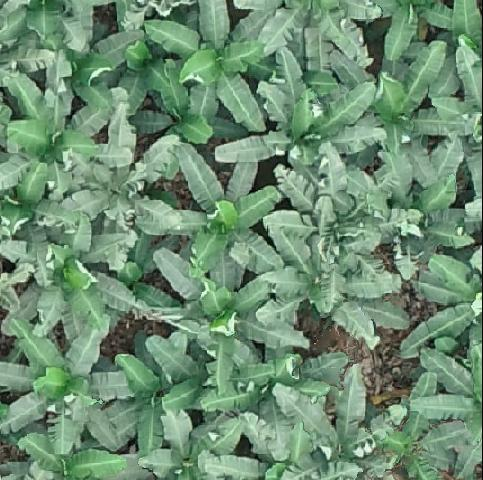Banana-plant: (152, 244, 316, 398), (213, 47, 391, 185), (199, 365, 409, 480), (260, 202, 413, 345), (152, 139, 289, 298), (0, 313, 139, 458), (141, 0, 280, 135), (0, 209, 142, 337), (0, 56, 114, 202), (70, 101, 184, 240), (16, 0, 149, 116), (397, 241, 483, 412), (264, 148, 422, 240), (372, 41, 469, 187), (408, 334, 483, 480), (112, 338, 205, 455), (358, 369, 455, 480), (232, 0, 384, 70), (374, 181, 476, 275), (135, 402, 245, 480), (16, 428, 128, 480)
